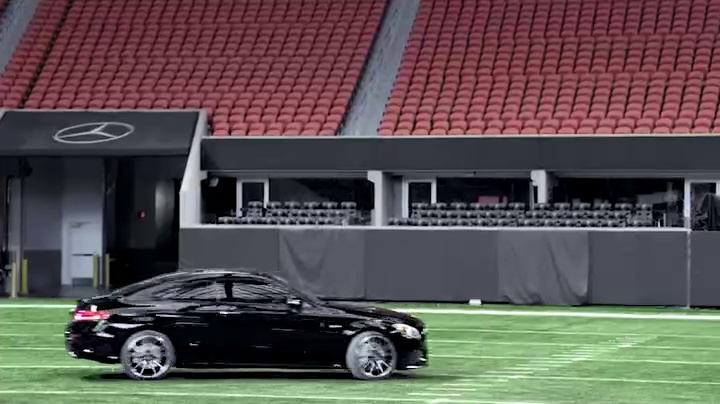amg: (62, 268, 430, 381)
